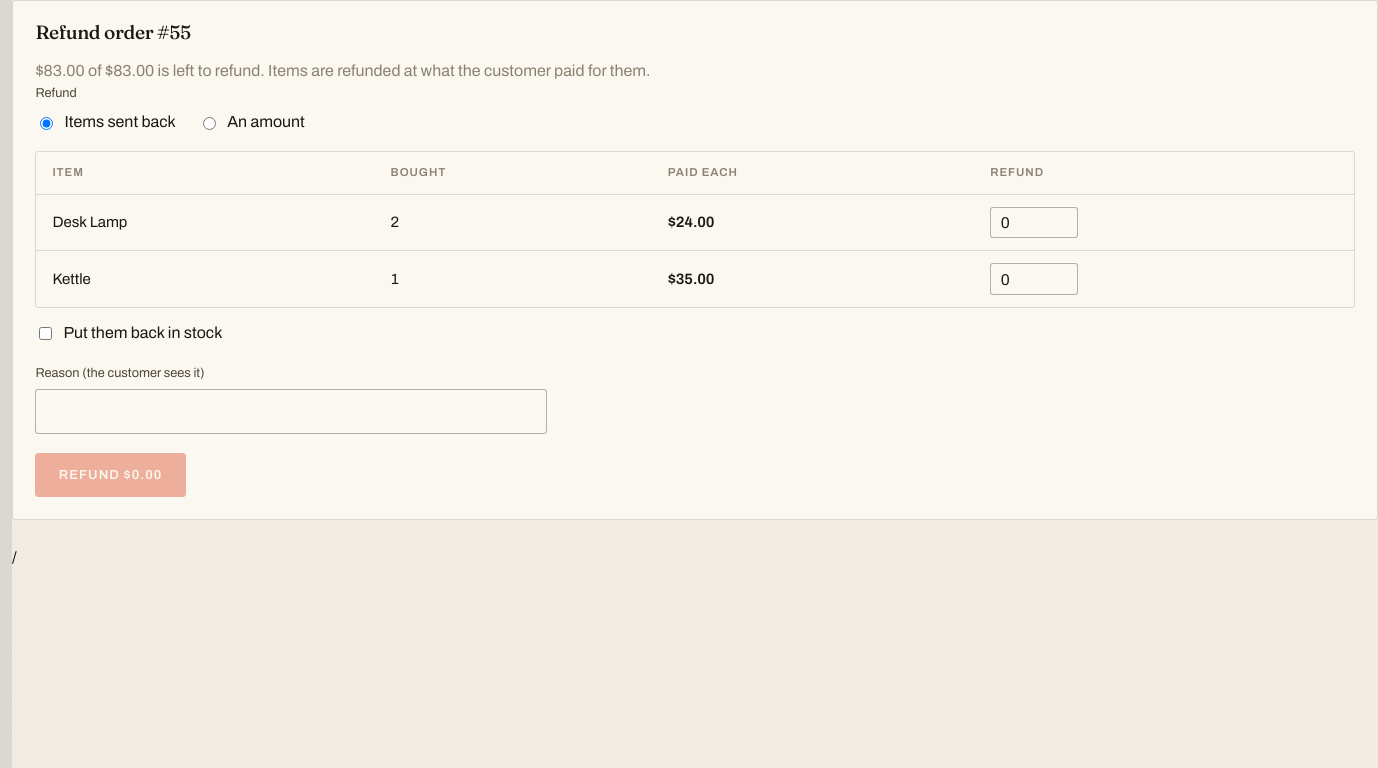
it: RefundForm › shows a refused refund, and fetches the order again
Expected: the text "left to refund" is shown, [154,62,650,79]
Replace the text in the number field named "How many Kettle to refund" with "1" at (1034, 279), box [990,263,1078,295]
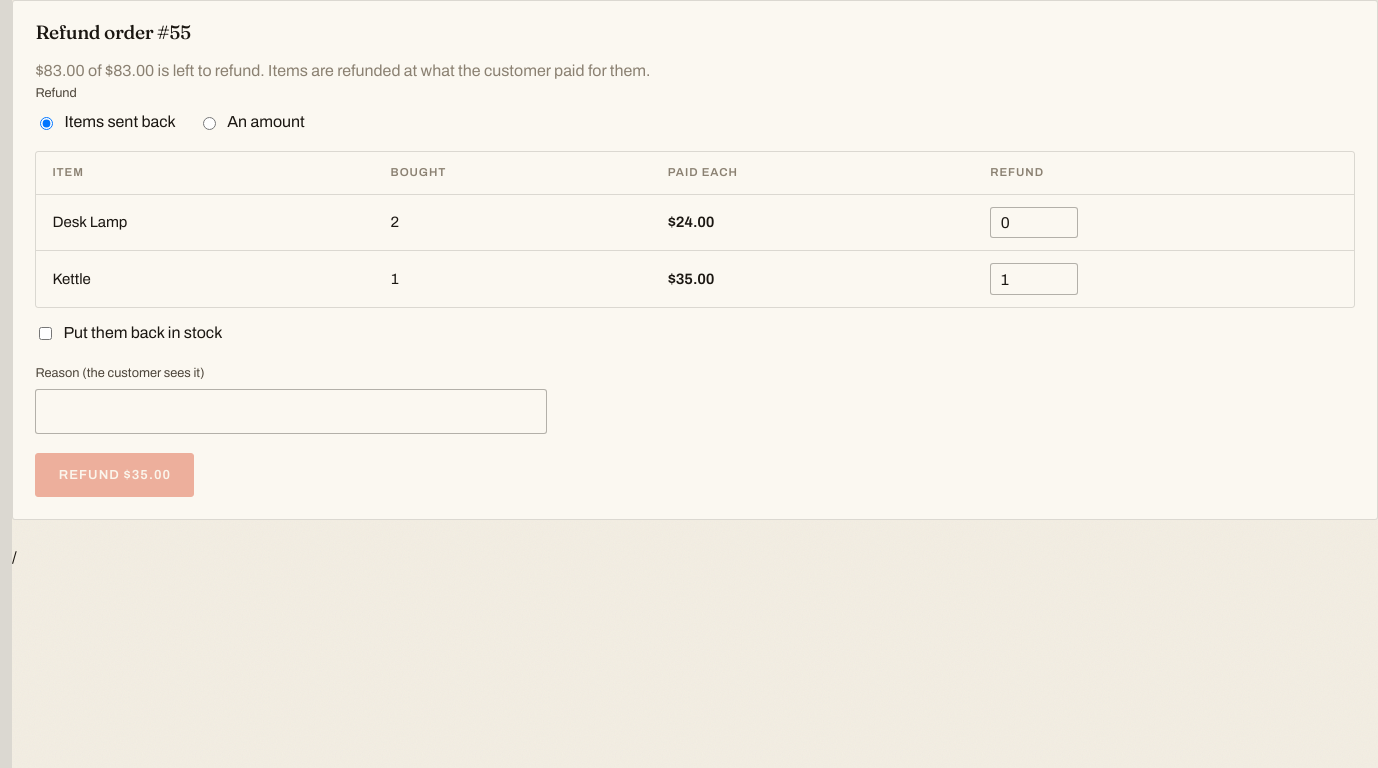
Type "Returned" into the field labelled "Reason (the customer sees it)" at (291, 411), box [35,389,547,434]
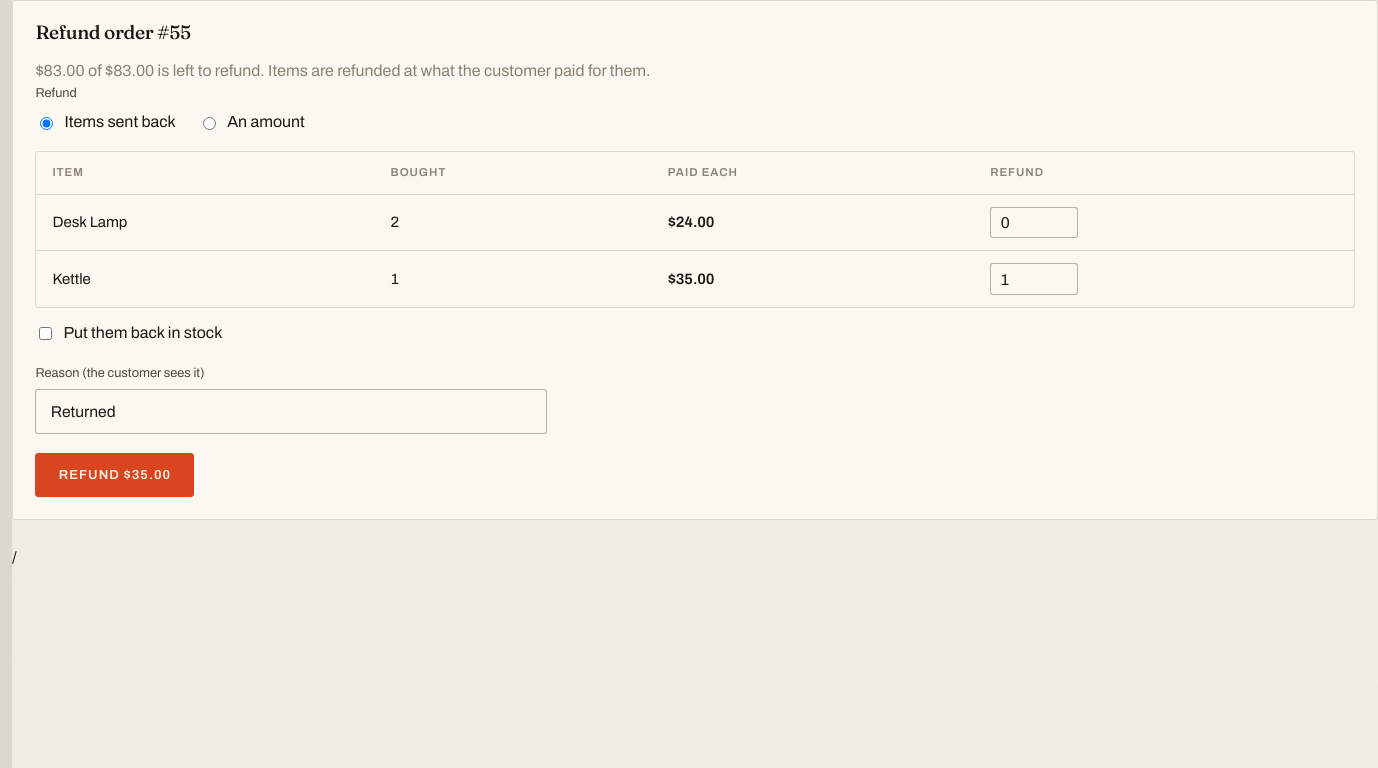
Click the button "Refund $35.00" at (115, 475), box [35,453,194,497]
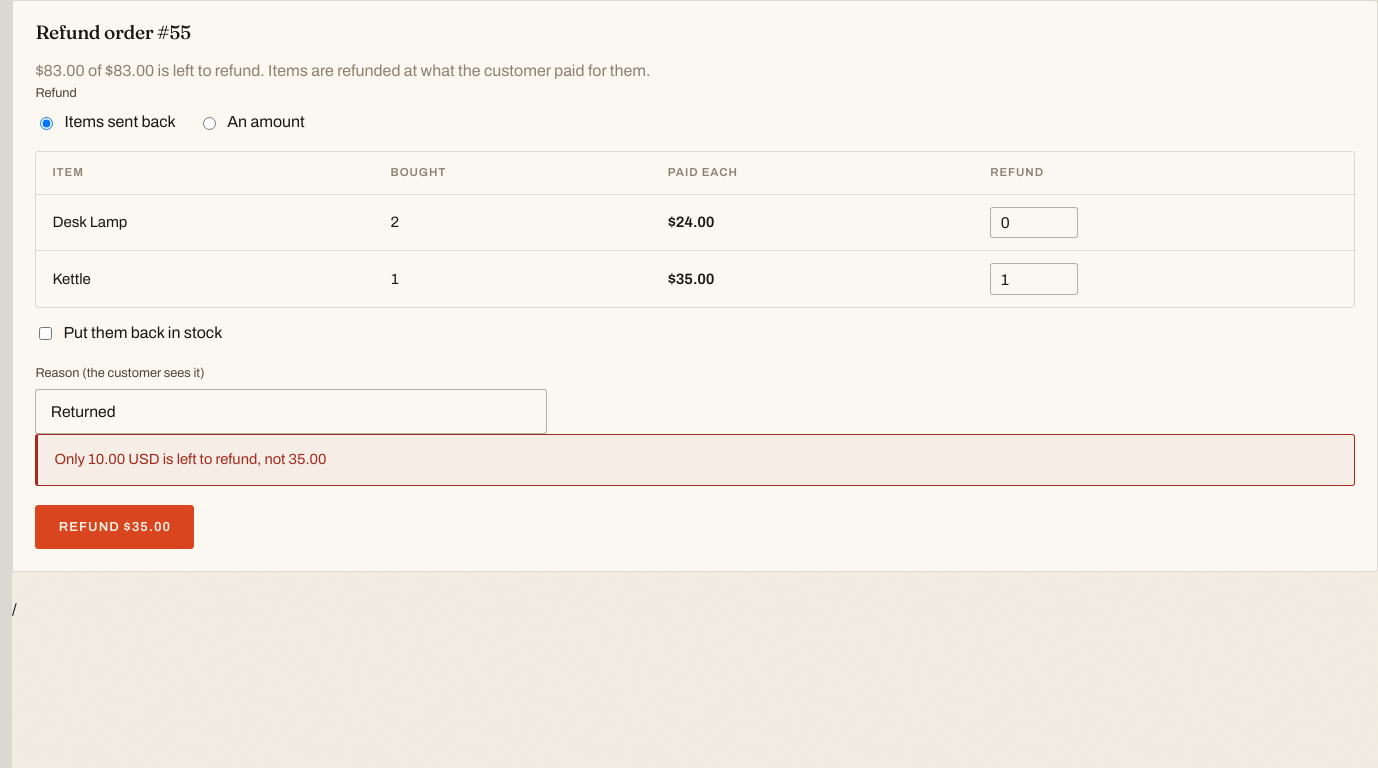
Expected: the message shows "Only 10.00 USD is left to refund", [54,451,326,467]
